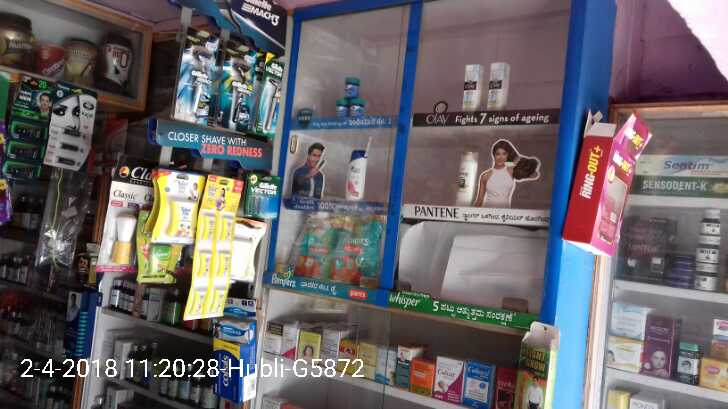vicks: (345, 77, 359, 98), (350, 99, 365, 117), (336, 100, 350, 117)
